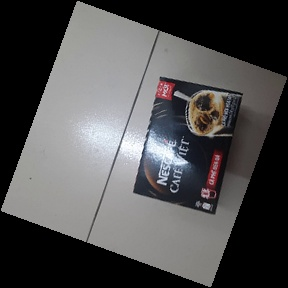CF Viet: (132, 74, 244, 217)
